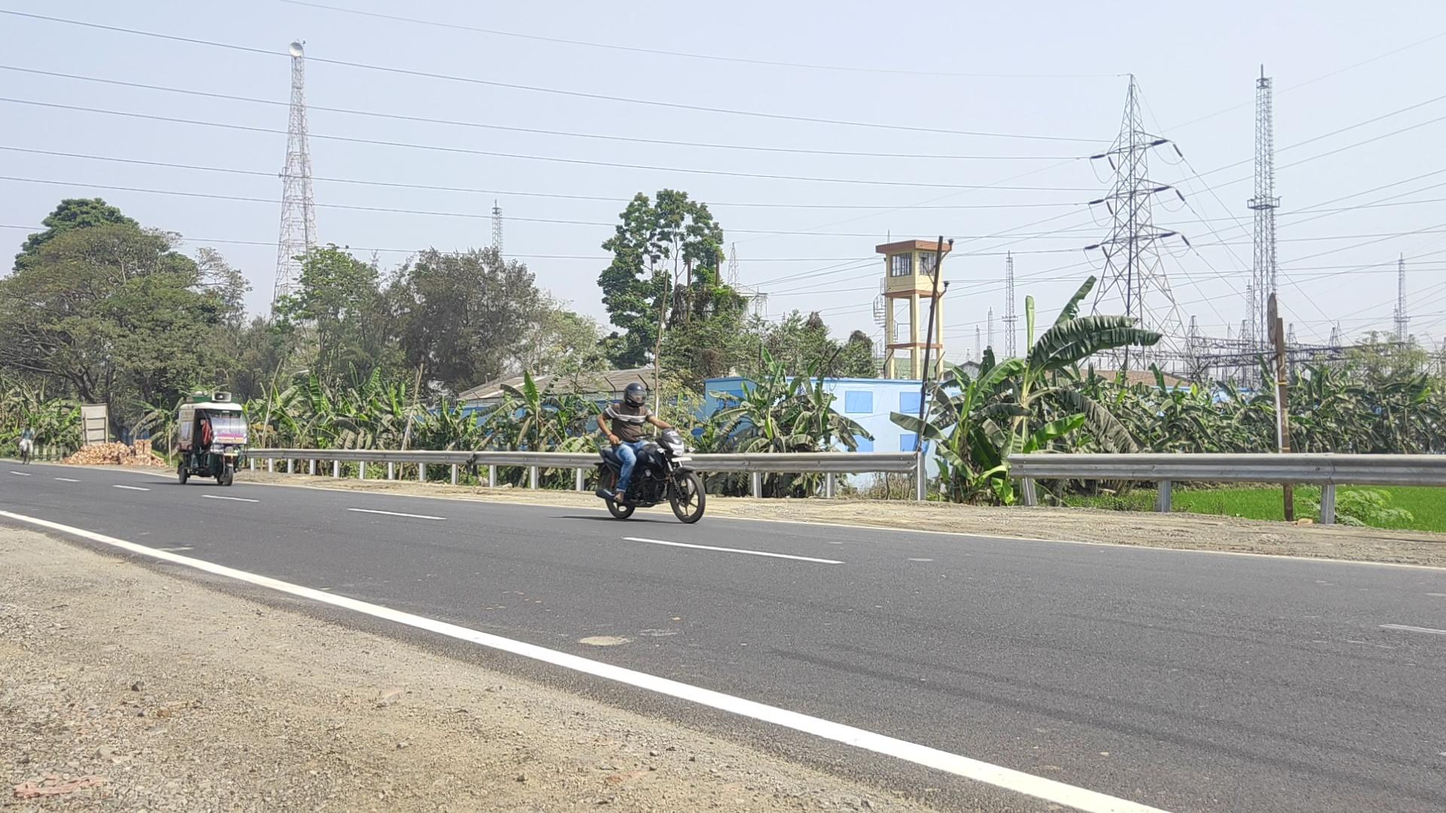Auto: (178, 391, 246, 486)
bike: (593, 382, 706, 524), (19, 422, 35, 464)
